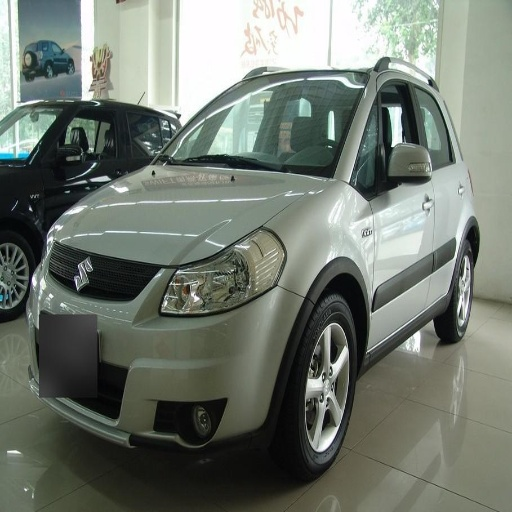front_bumper: (27, 243, 304, 444)
front_glass: (155, 75, 364, 177)
front_left_door: (371, 72, 433, 343)
